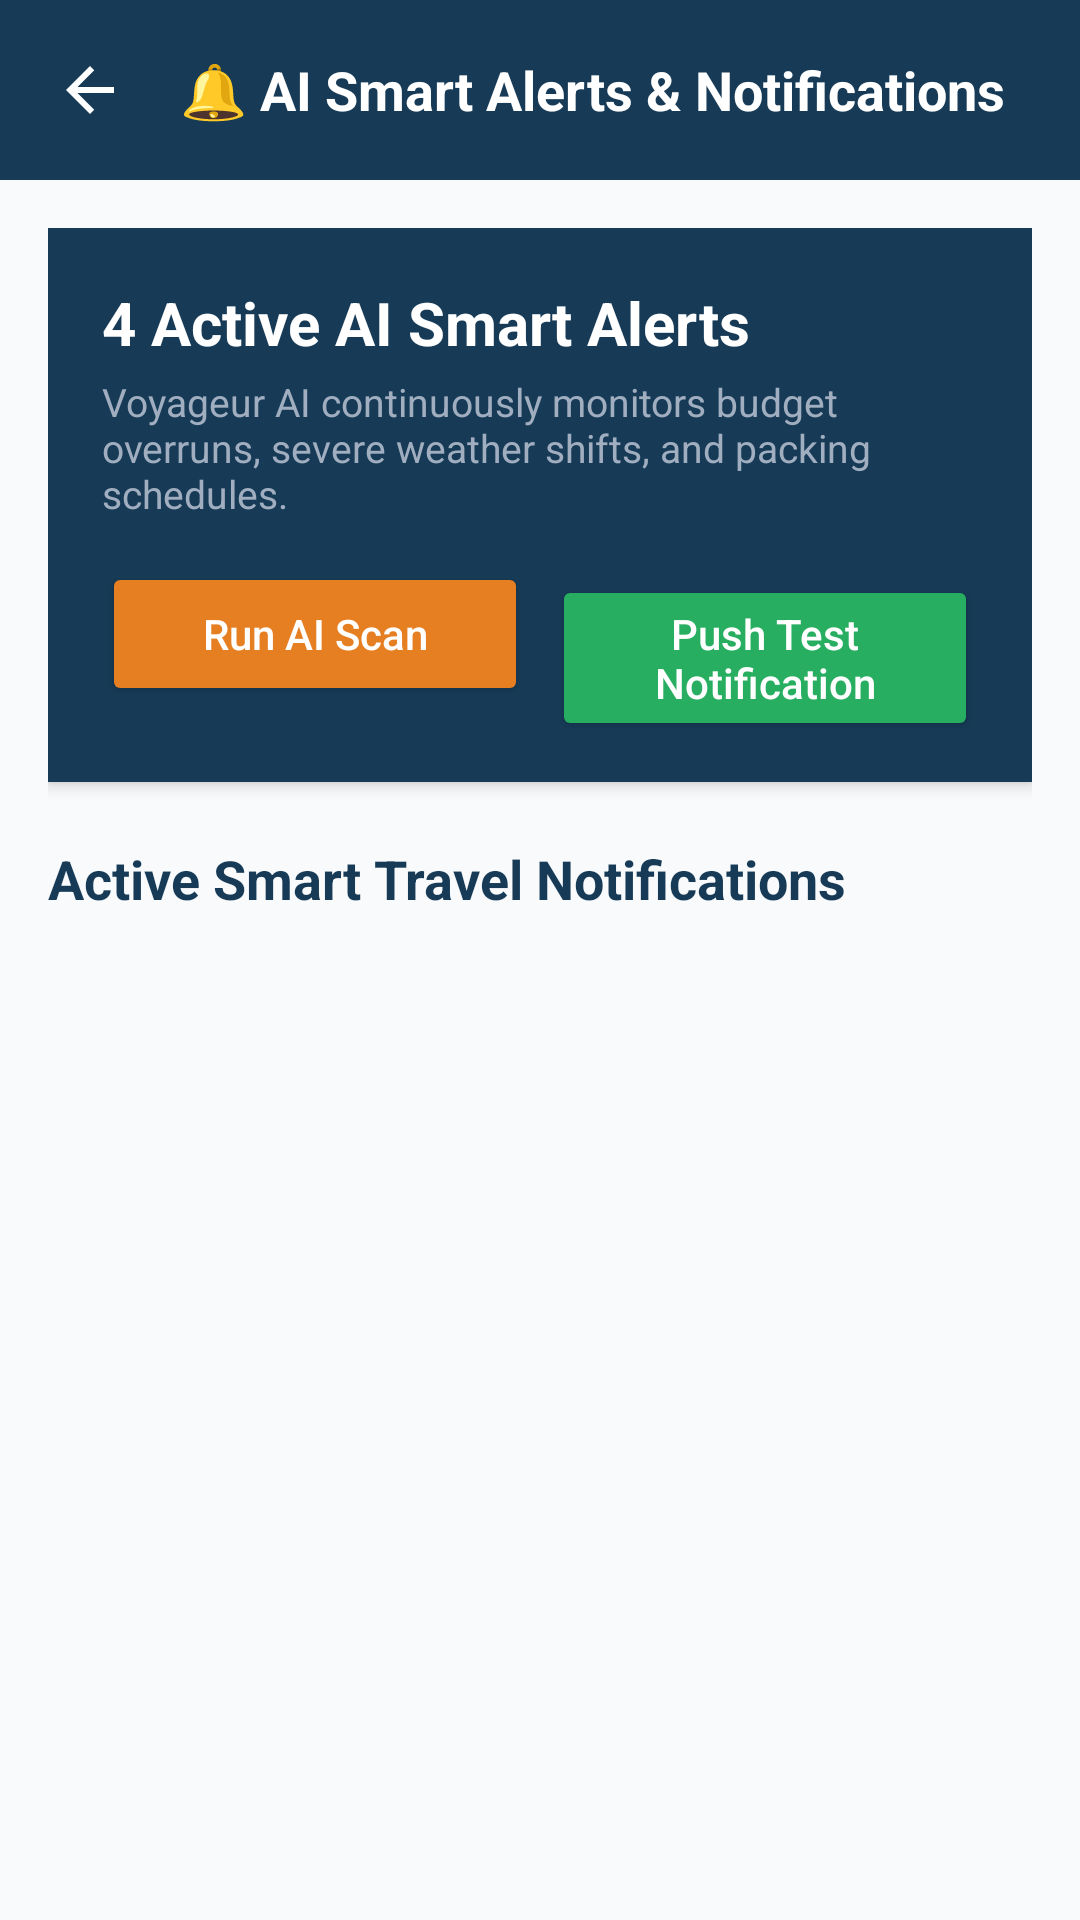

Screen size 1080px×1920px. Icon name, then its box in pixels as (x1, y1, x2, y2):
Back: (66, 66, 114, 114)
